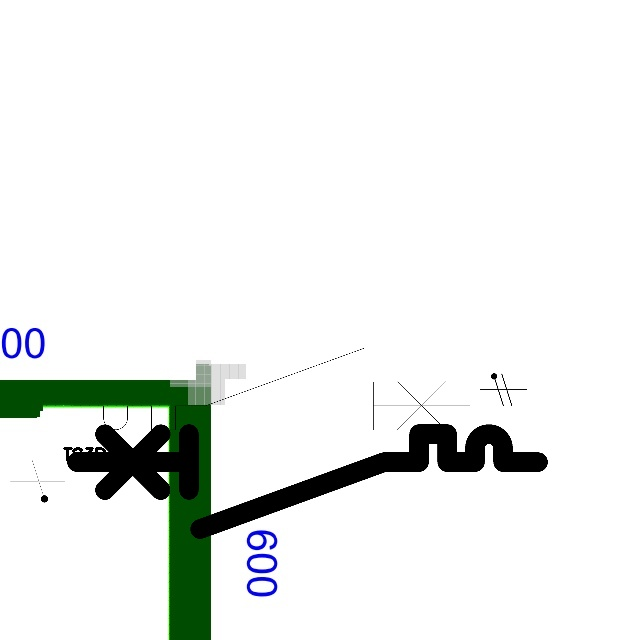interruptor_termomagnetico: (64, 422, 549, 541), (63, 338, 480, 440)
